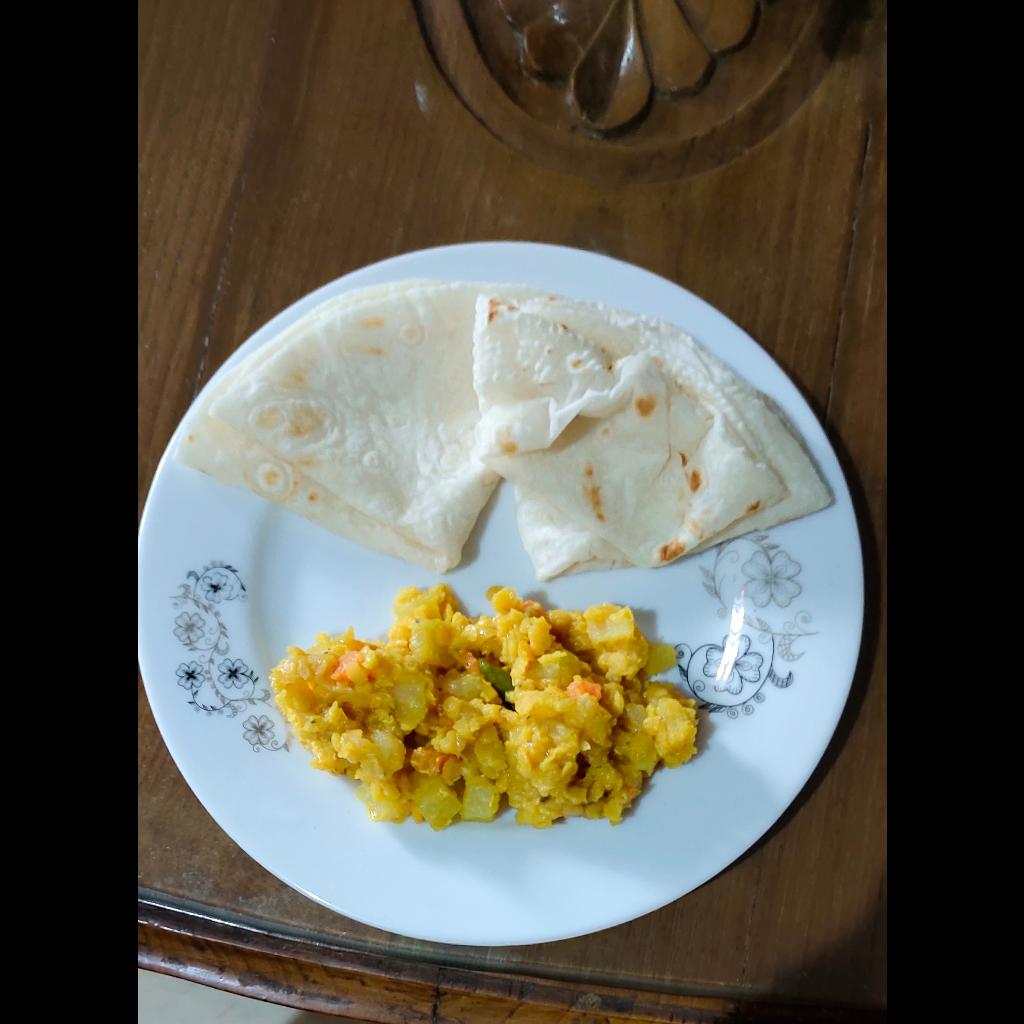khichuri: (260, 574, 700, 838)
ruti: (174, 279, 834, 577)
